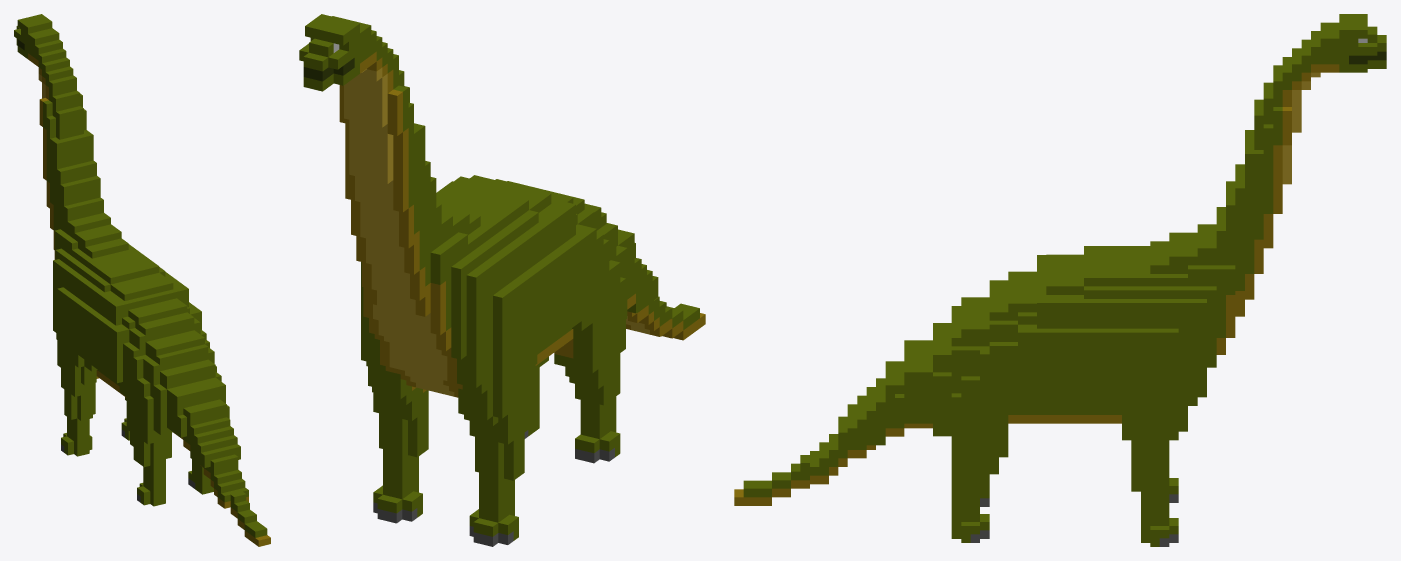
File: bronto.glb
3 renders of one model, left to right at view 1: azimuth 30°, elevation 25°; view 2: azimuth 150°, elevation 25°; view 3: azimuth 270°, elevation 25°, orthographic. The views are drawn at different scales.
Size of the model in its own units: 0.28 by 1.16 by 1.38.
